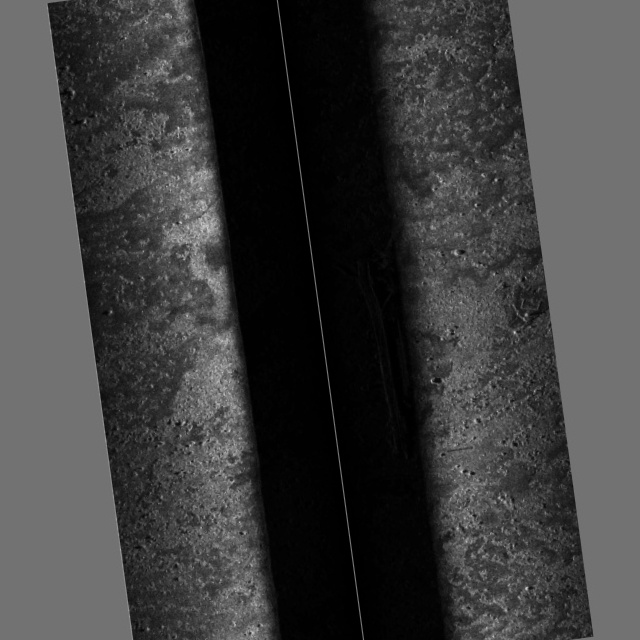Shipwreck: (353, 215, 567, 468)
